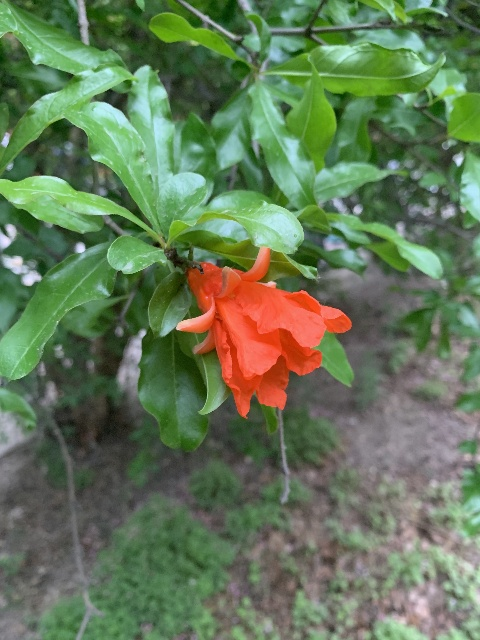flower: (176, 246, 353, 419)
